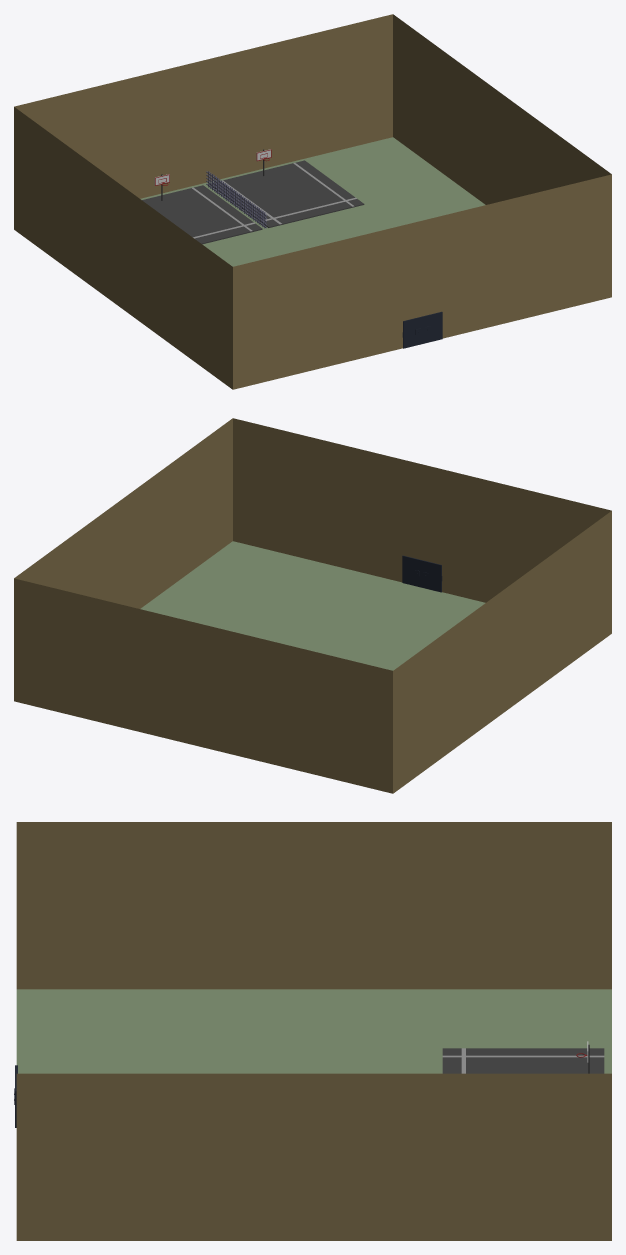
The model's file is backyard.fbx.
The picture shows the model from 3 angles, top to bottom: view 1: azimuth 30°, elevation 25°; view 2: azimuth 150°, elevation 25°; view 3: azimuth 270°, elevation 25°; orthographic projection. The views are drawn at different scales.
Parts seen in each view (by area): view 1: Plane004, Plane002, Plane005, Plane003, Plane006, Box445, Box524, Door001, Door; view 2: Plane002, Plane004, Plane005, Plane006, Plane003, Door001, Door; view 3: Plane003, Plane005, Plane006, Box524.
Part boxes in pixels (box(x1,y1,x2,y2)): Plane004: box(233, 174, 611, 389); Plane002: box(14, 14, 392, 198); Plane005: box(14, 107, 232, 389); Plane003: box(393, 14, 611, 204); Plane006: box(140, 137, 485, 266); Box445: box(209, 160, 364, 227); Box524: box(142, 185, 262, 244); Door001: box(402, 316, 422, 348); Door: box(422, 311, 442, 343); Plane002: box(14, 578, 392, 793); Plane004: box(233, 418, 611, 602); Plane005: box(393, 511, 611, 793); Plane006: box(140, 541, 485, 670); Plane003: box(14, 418, 232, 608); Door001: box(422, 560, 442, 592); Door: box(402, 555, 421, 587); Plane003: box(16, 1073, 611, 1240); Plane005: box(16, 822, 611, 989); Plane006: box(16, 989, 611, 1073); Box524: box(442, 1048, 604, 1073).
Size of the model in its own units: 250 by 77.5 by 251.
